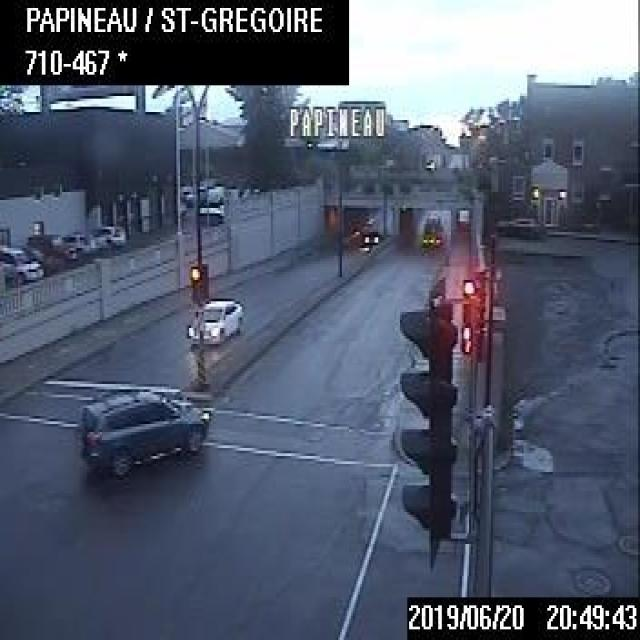vehicle: (82, 389, 211, 472), (185, 295, 242, 344), (26, 230, 76, 265), (0, 241, 44, 279), (86, 220, 128, 252), (58, 228, 94, 260), (418, 219, 444, 245), (360, 226, 378, 242)
